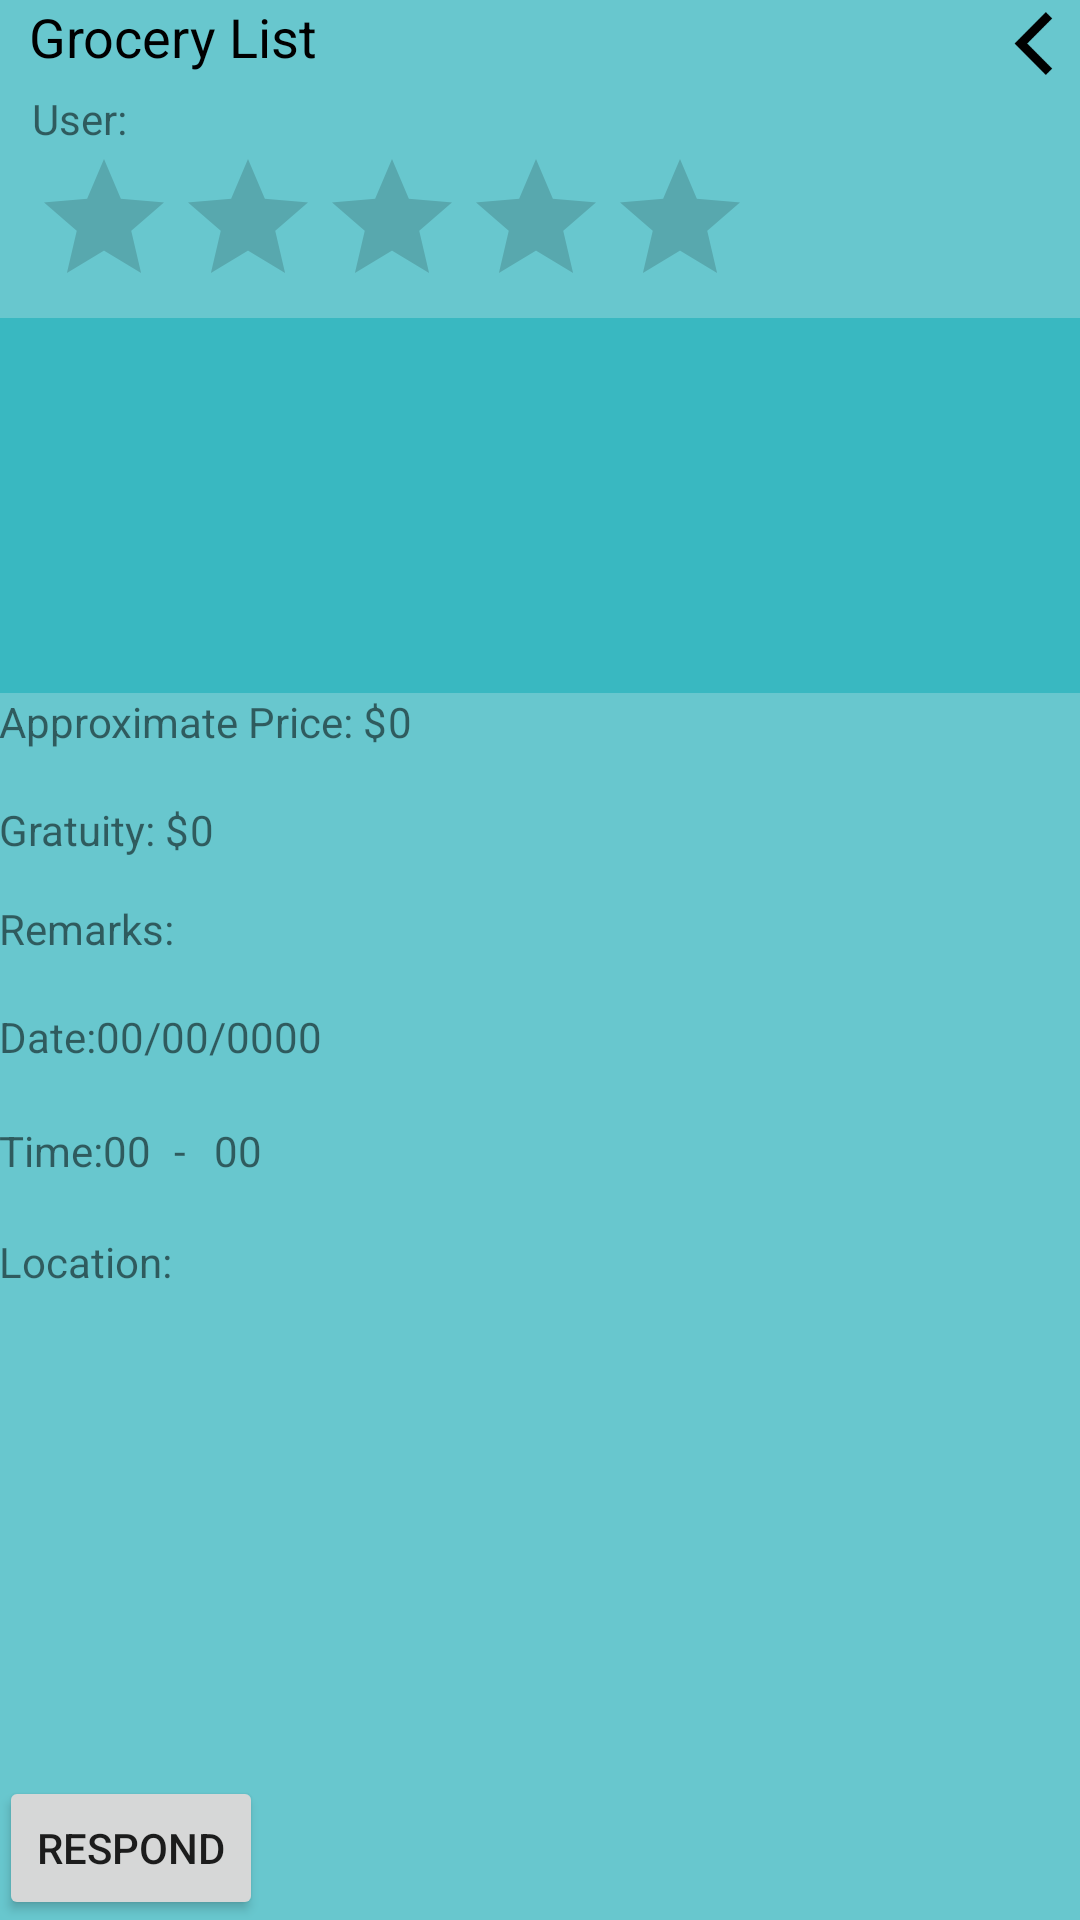

Locate icon controls on the screen. Image size 1080*1920, boxes as bbox=(x1, y1, x2, y2).
back: bbox=(1014, 12, 1052, 75)
